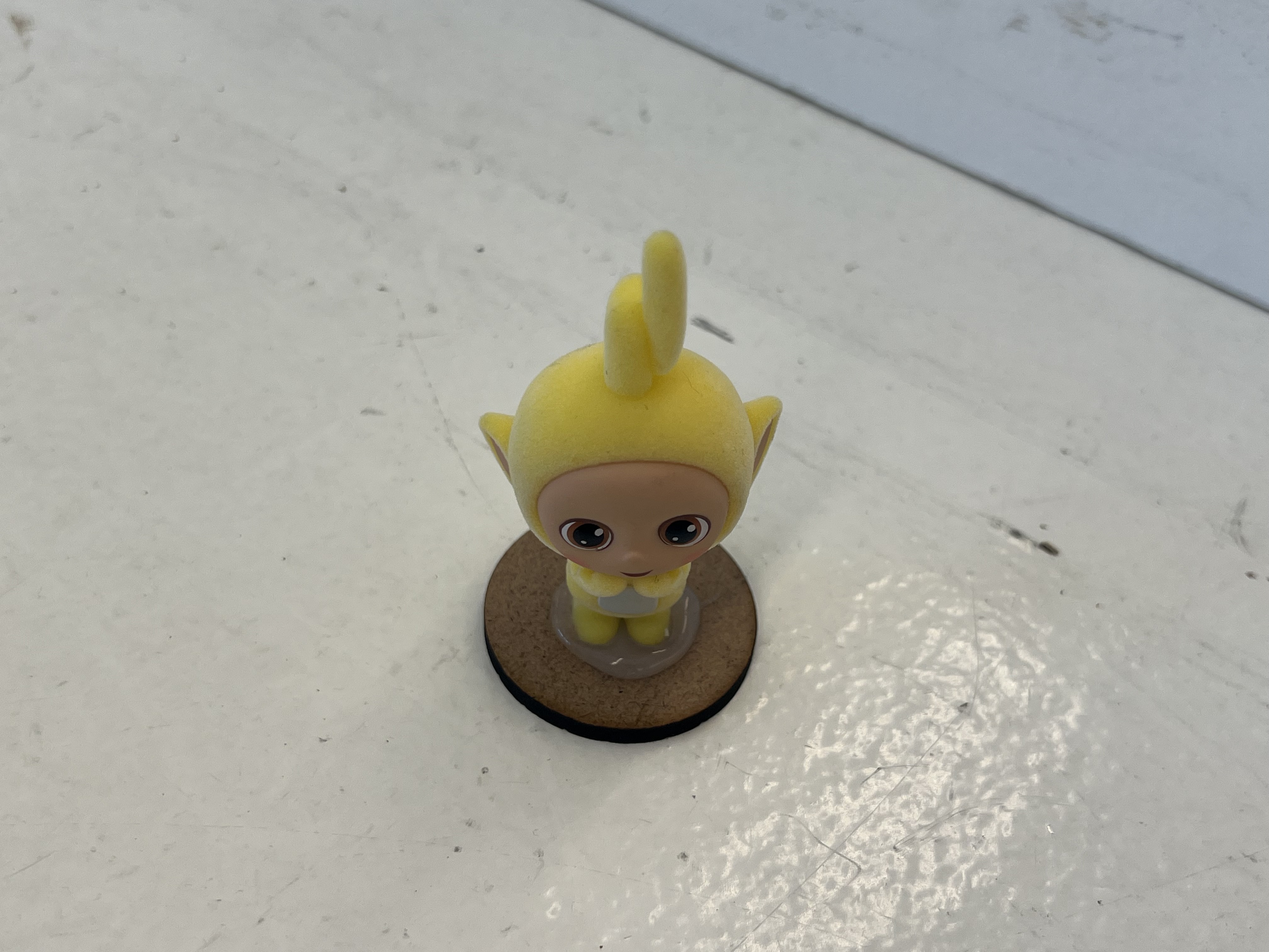teletubby: (479, 231, 781, 647)
